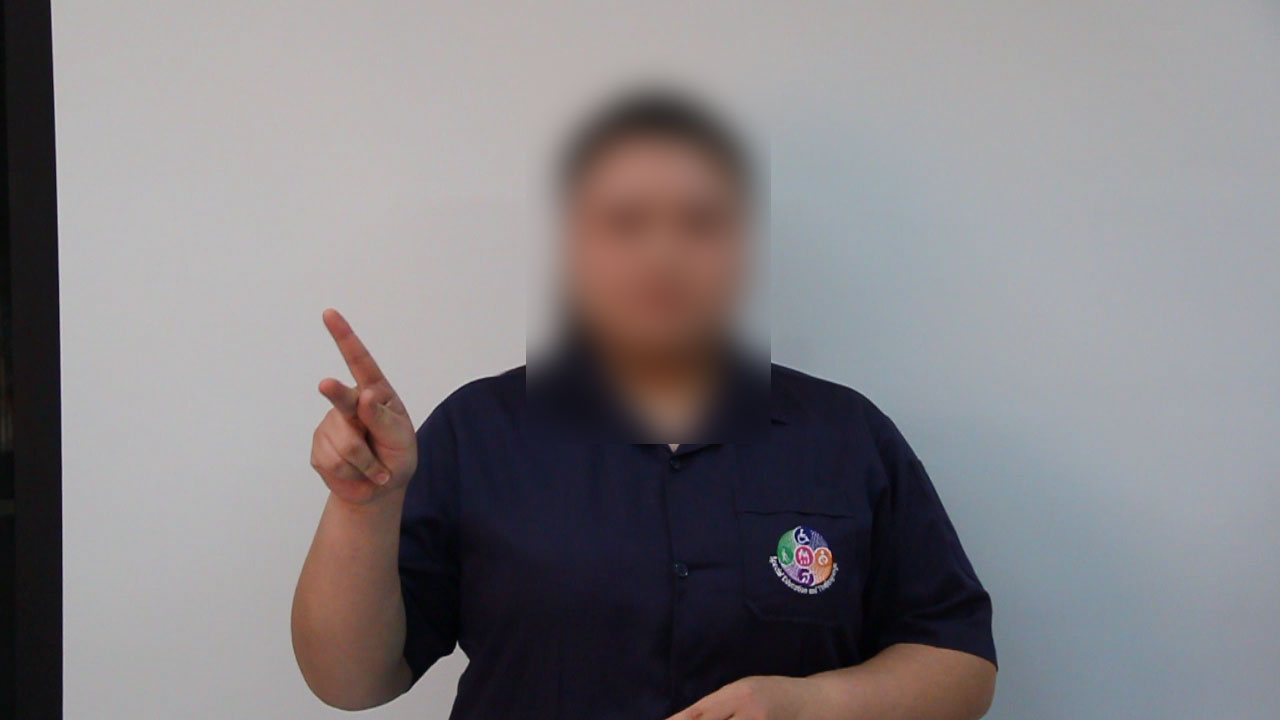ko: (277, 300, 435, 501)
